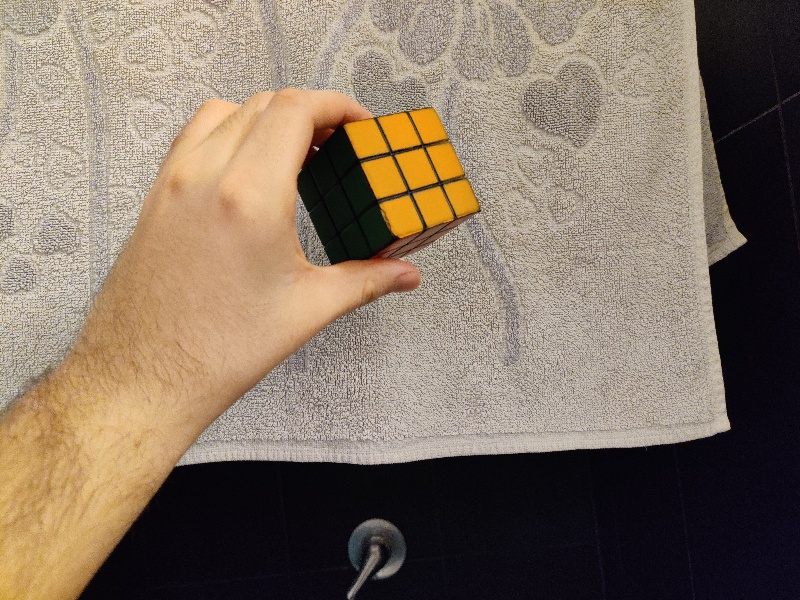rubik: (299, 107, 480, 263)
